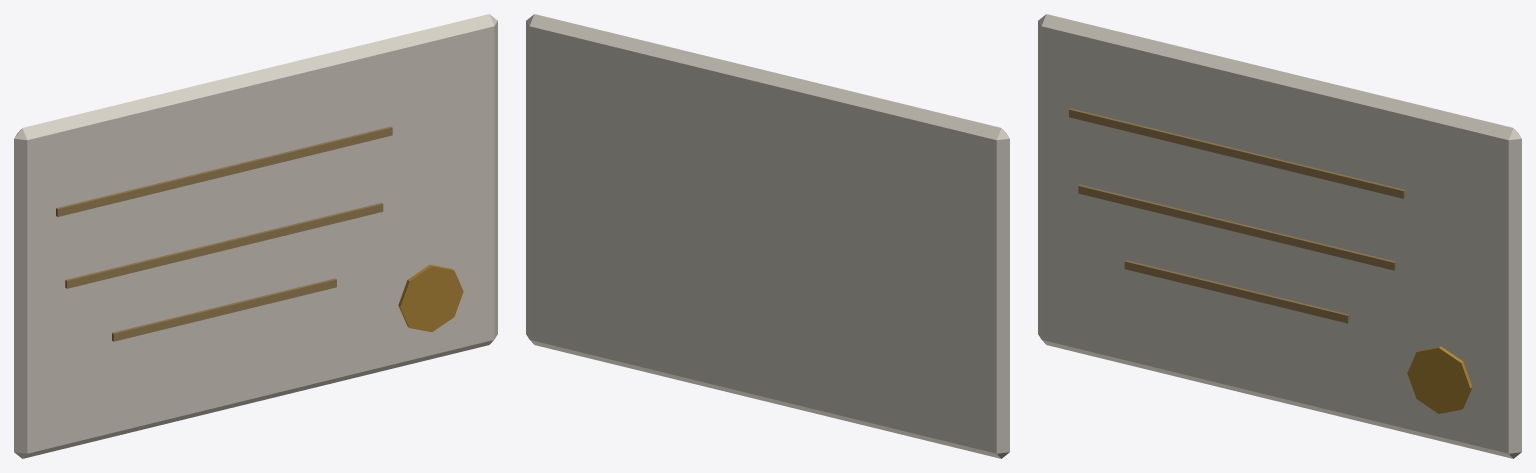
File: card.glb
The picture shows the model from 3 angles, left to right: view 1: azimuth 30°, elevation 25°; view 2: azimuth 150°, elevation 25°; view 3: azimuth 330°, elevation 25°; orthographic projection.
Visible parts, largest first — view 1: Paper_mesh; view 2: Paper_mesh; view 3: Paper_mesh.
Boxes of the visible parts, box(x1,y1,x2,y2) form: Paper_mesh: box(14, 14, 497, 458); Paper_mesh: box(526, 14, 1009, 458); Paper_mesh: box(1038, 14, 1521, 458).
Bounding box in the file's own units: 0.26 × 0.17 × 0.0125.
